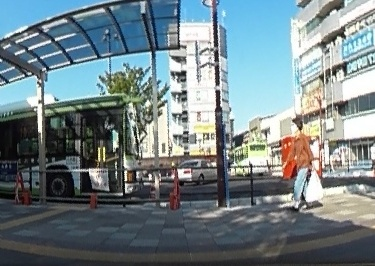person: (285, 116, 317, 210)
